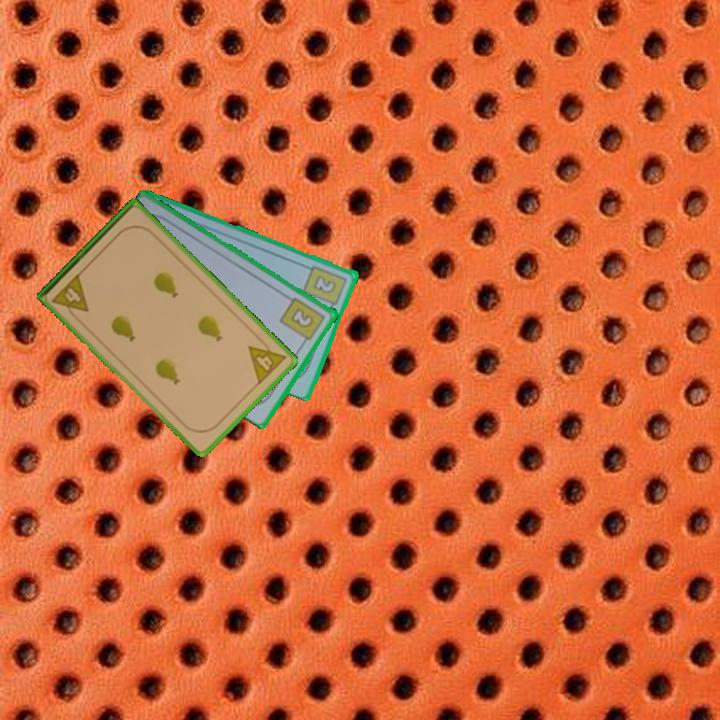2b: (277, 294, 328, 347), (300, 262, 350, 313)
4p: (245, 333, 289, 388), (48, 270, 92, 323)
